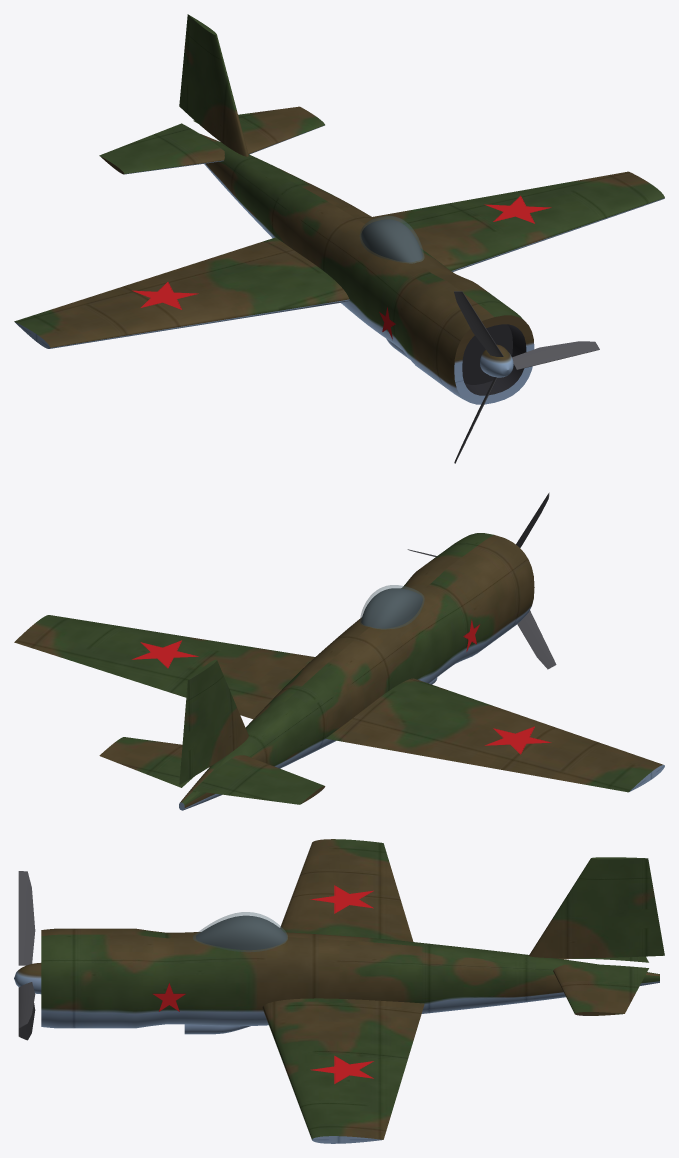
The picture shows the model from 3 angles, top to bottom: view 1: azimuth 30°, elevation 25°; view 2: azimuth 150°, elevation 25°; view 3: azimuth 270°, elevation 25°; orthographic projection.
Parts seen in each view (by area): view 1: Fuselage, Wing0_R, Wing0_L, Fin2, Intake, Htail1_R, Propeller, Htail1_L, Canopy, Cockpit, Decal_Wing_U_L, Decal_Wing_U_R; view 2: Fuselage, Wing0_R, Wing0_L, Fin2, Htail1_R, Htail1_L, Canopy, Cockpit, Propeller, Decal_Wing_U_L, Decal_Wing_U_R; view 3: Fuselage, Wing0_L, Fin2, Wing0_R, Htail1_L, Propeller, Canopy, Cockpit, Decal_Wing_U_L, Decal_Wing_U_R, Intake.
Part boxes in pixels (bbox=[...]): Fuselage: bbox=[200, 134, 523, 400]; Wing0_R: bbox=[14, 237, 349, 348]; Wing0_L: bbox=[372, 171, 664, 271]; Fin2: bbox=[179, 14, 248, 156]; Intake: bbox=[386, 315, 534, 404]; Htail1_R: bbox=[99, 123, 224, 174]; Propeller: bbox=[454, 291, 599, 463]; Htail1_L: bbox=[193, 106, 324, 154]; Canopy: bbox=[360, 216, 424, 263]; Cockpit: bbox=[361, 219, 422, 262]; Decal_Wing_U_L: bbox=[484, 195, 551, 223]; Decal_Wing_U_R: bbox=[132, 282, 198, 309]; Fuselage: bbox=[179, 533, 534, 810]; Wing0_R: bbox=[326, 678, 664, 792]; Wing0_L: bbox=[14, 615, 314, 719]; Fin2: bbox=[179, 659, 248, 784]; Htail1_R: bbox=[193, 755, 325, 804]; Htail1_L: bbox=[99, 737, 194, 787]; Canopy: bbox=[360, 585, 424, 629]; Cockpit: bbox=[361, 588, 422, 628]; Propeller: bbox=[407, 492, 556, 669]; Decal_Wing_U_L: bbox=[132, 640, 198, 668]; Decal_Wing_U_R: bbox=[484, 726, 551, 754]; Fuselage: bbox=[41, 928, 659, 1028]; Wing0_L: bbox=[262, 998, 424, 1143]; Fin2: bbox=[529, 857, 664, 958]; Wing0_R: bbox=[280, 839, 413, 941]; Htail1_L: bbox=[553, 964, 648, 1015]; Propeller: bbox=[14, 871, 41, 1040]; Canopy: bbox=[193, 912, 287, 951]; Cockpit: bbox=[196, 915, 286, 950]; Decal_Wing_U_L: bbox=[310, 1055, 373, 1083]; Decal_Wing_U_R: bbox=[310, 885, 373, 913]; Intake: bbox=[184, 1024, 250, 1034].
Bounding box in the file's own units: 9.8 × 3.15 × 9.08.
6 materials, 2 textured.
